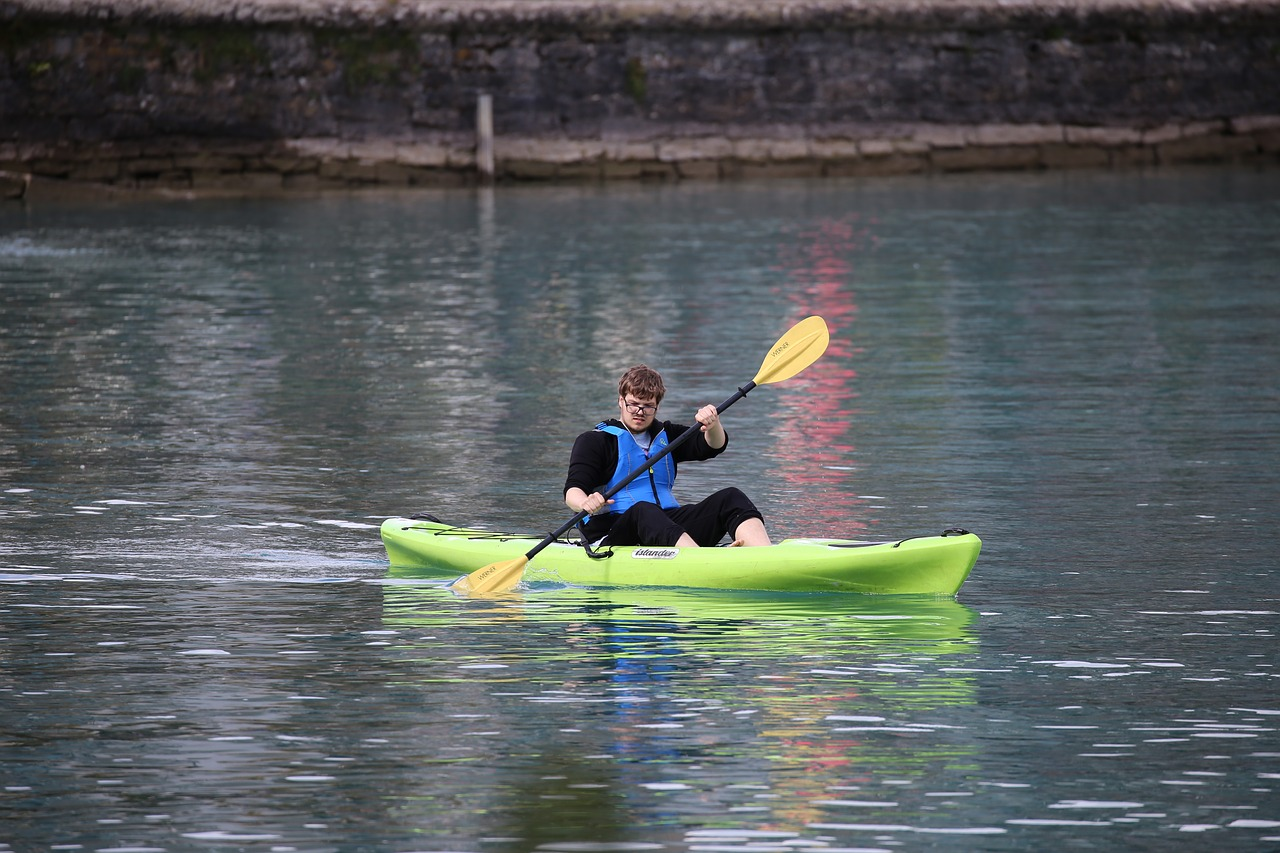kayak: (377, 512, 987, 598)
